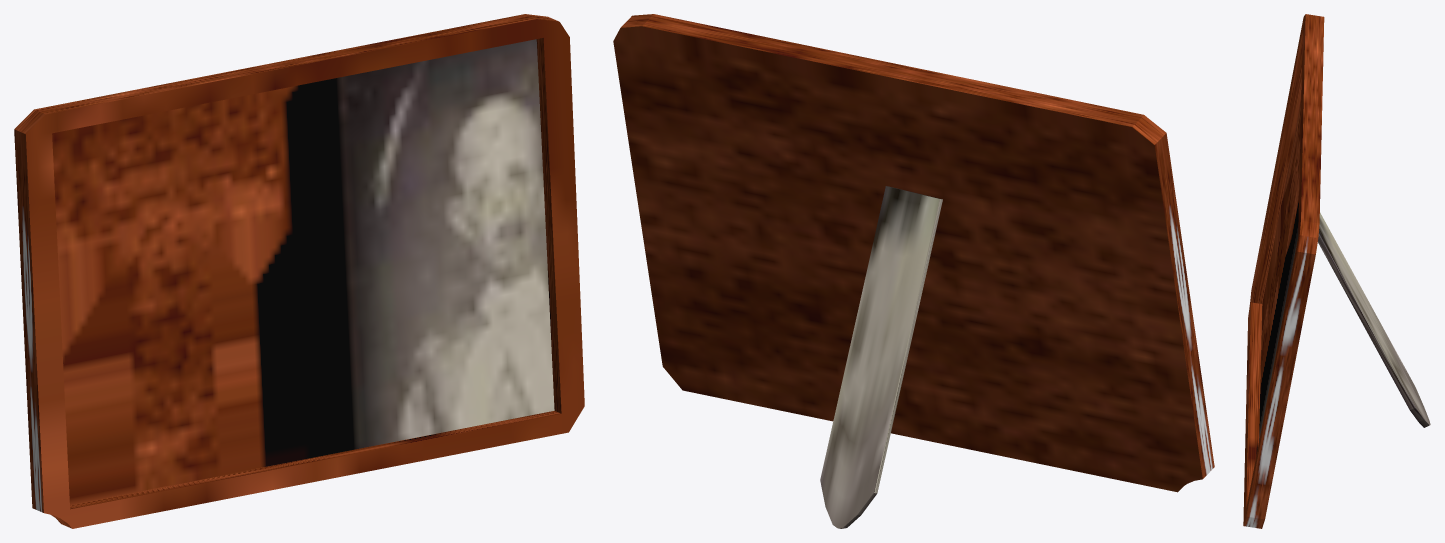
The model's file is marco_Tumba.obj.
The picture shows the model from 3 angles, left to right: view 1: azimuth 30°, elevation 25°; view 2: azimuth 150°, elevation 25°; view 3: azimuth 270°, elevation 25°; orthographic projection. The views are drawn at different scales.
Parts seen in each view (by area): view 1: Cube_Cube.001; view 2: Cube_Cube.001, Cube.001_Cube.002; view 3: Cube_Cube.001, Cube.001_Cube.002.
Boxes of the visible parts, box(x1,y1,x2,y2) form: Cube_Cube.001: box(14, 14, 584, 528); Cube_Cube.001: box(613, 14, 1214, 492); Cube.001_Cube.002: box(820, 186, 942, 528); Cube_Cube.001: box(1243, 14, 1324, 528); Cube.001_Cube.002: box(1318, 212, 1430, 427).
Bounding box in the file's own units: 0.2052 × 0.1453 × 0.0754.
Materials: 1 (1 with a texture image).
